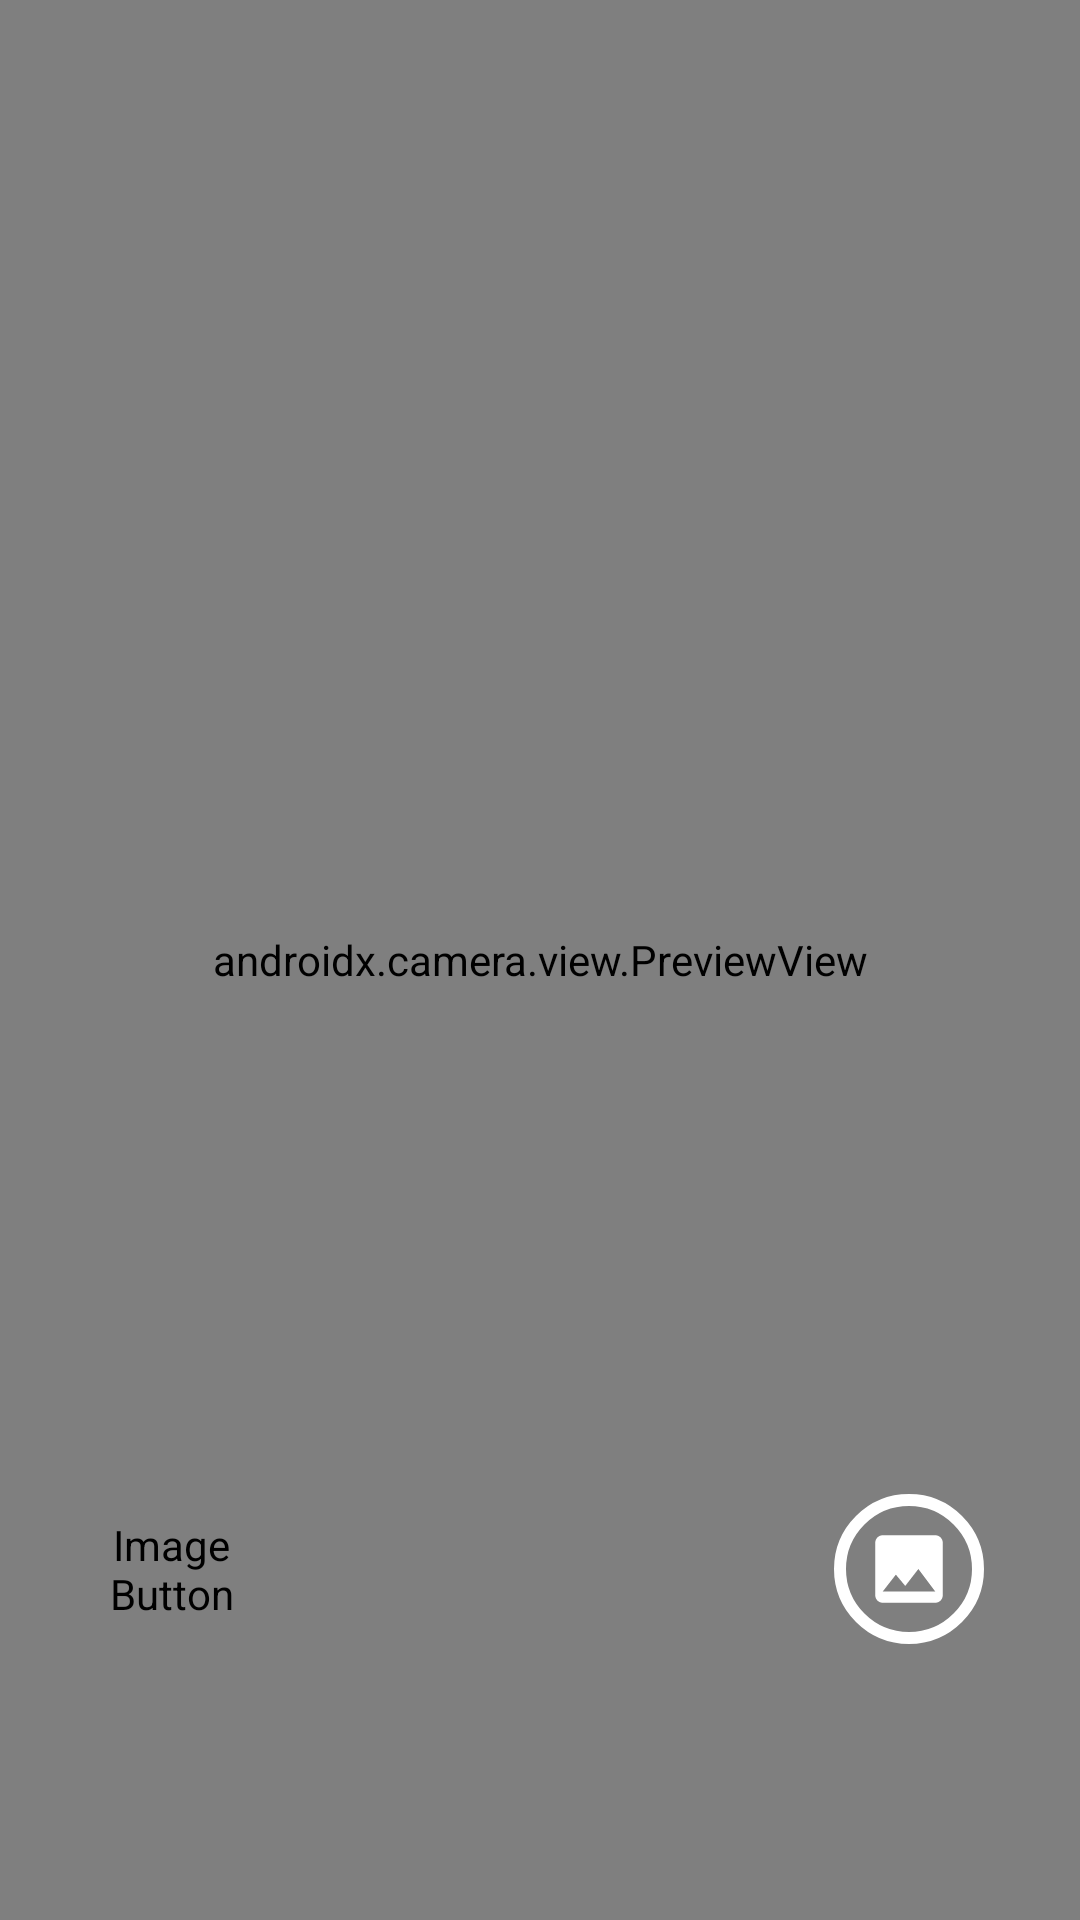

Named icons in this screenshot (1080*1920) and their bounding boxes, (x1, y1, x2, y2):
gallery: (834, 1494, 984, 1644)
